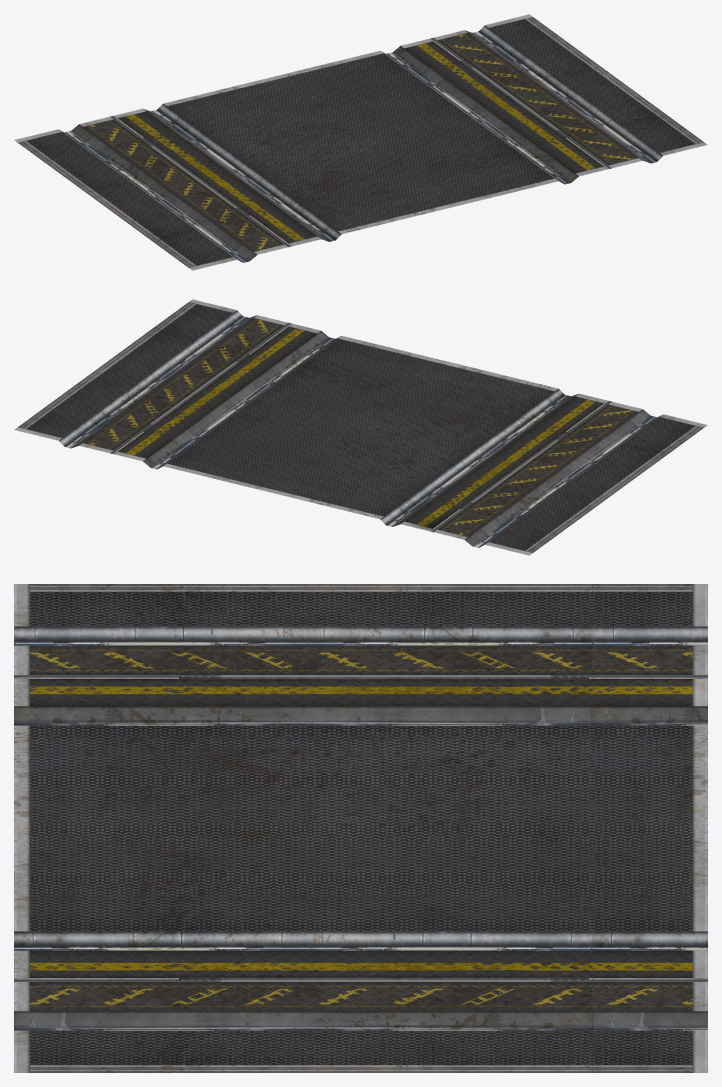
The model's file is Floor_C_5mts_00.fbx.
3 views of the same model, one above another, from view 1: azimuth 30°, elevation 25°; view 2: azimuth 150°, elevation 25°; view 3: azimuth 270°, elevation 25° (orthographic). The views are drawn at different scales.
Visible parts, largest first — view 1: Floor_C_5mts_00; view 2: Floor_C_5mts_00; view 3: Floor_C_5mts_00.
Part boxes in pixels (x1=…): Floor_C_5mts_00: x1=14, y1=14, x2=707, y2=270; Floor_C_5mts_00: x1=14, y1=299, x2=707, y2=555; Floor_C_5mts_00: x1=14, y1=584, x2=707, y2=1072.
Size of the model in its own units: 500 by 4.33 by 300.
1 material, 1 textured.
